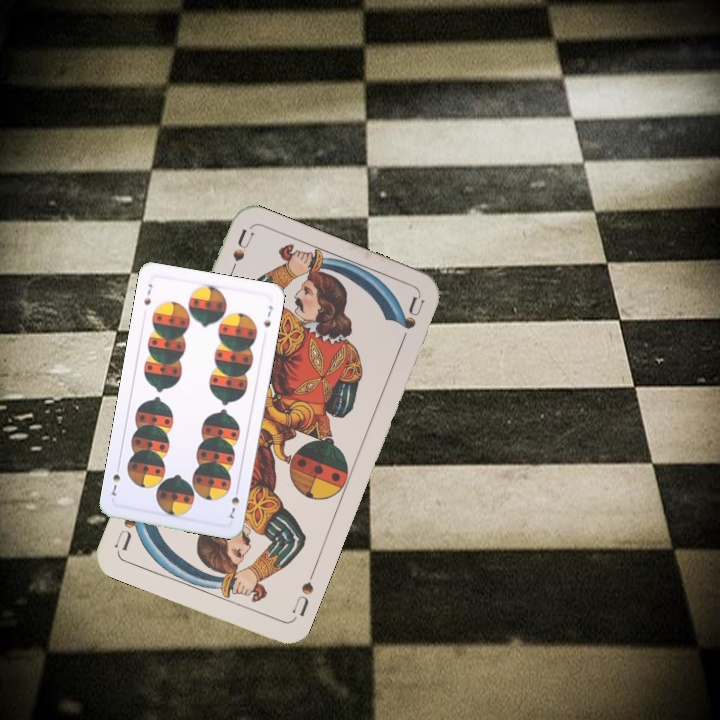S7: (226, 483, 242, 521), (140, 280, 155, 308)
SU: (223, 226, 257, 284), (288, 577, 317, 619)
